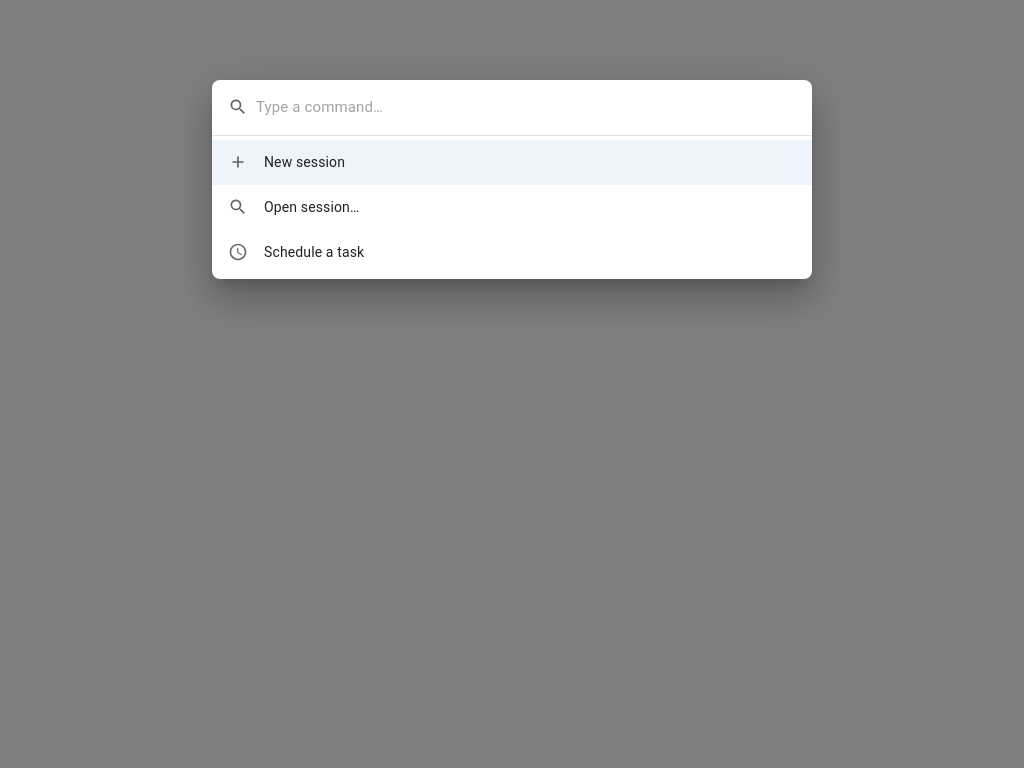
CommandPalette › switches to session search and filters existing sessions by prompt
Click the button "Open session…" at (294, 207), box [228,197,359,217]
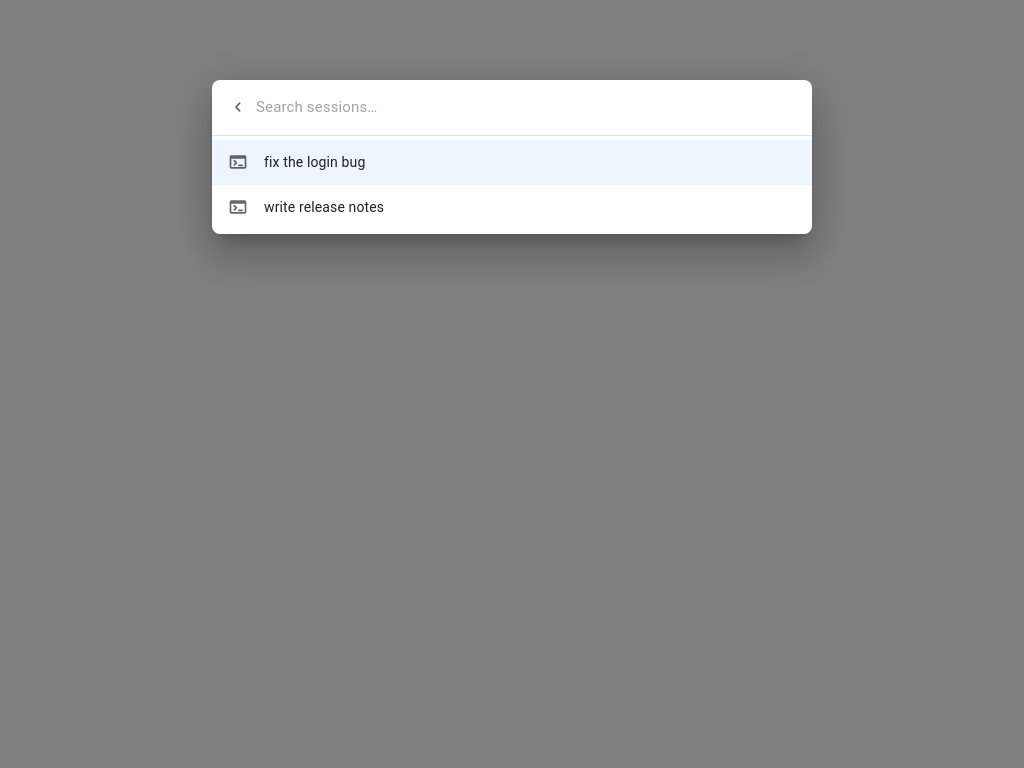
Expected: the text "fix the login bug" is shown, [264,154,365,170]
Expected: the text "write release notes" is shown, [264,199,384,215]
Type "login" into the field labelled "Search sessions" at (526, 107), box [256,92,796,123]
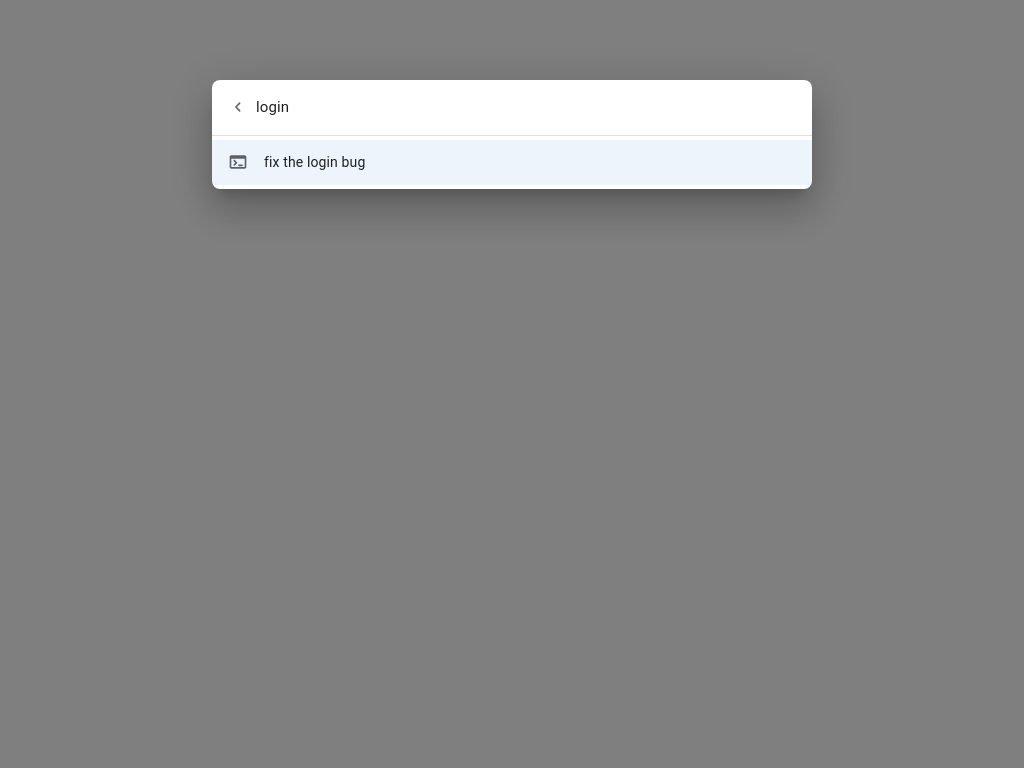
Expected: the text "fix the login bug" is shown, [264,154,365,170]
Expected: the button "write release notes" is gone
